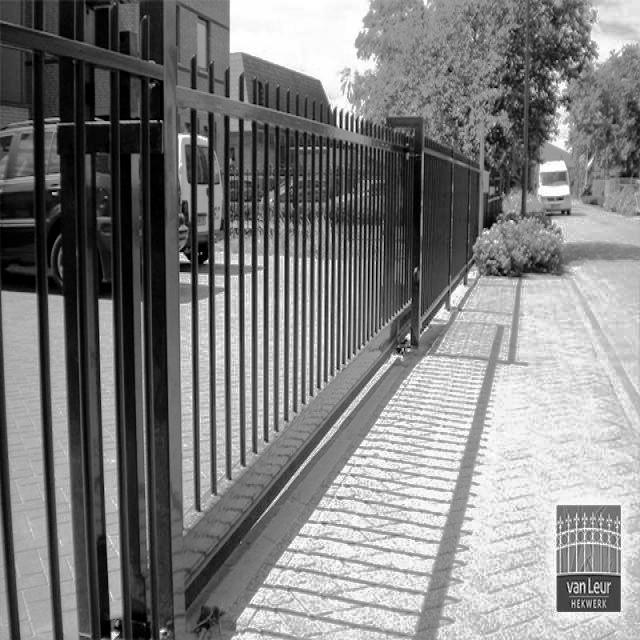fences: (0, 49, 256, 584), (276, 78, 509, 419)
